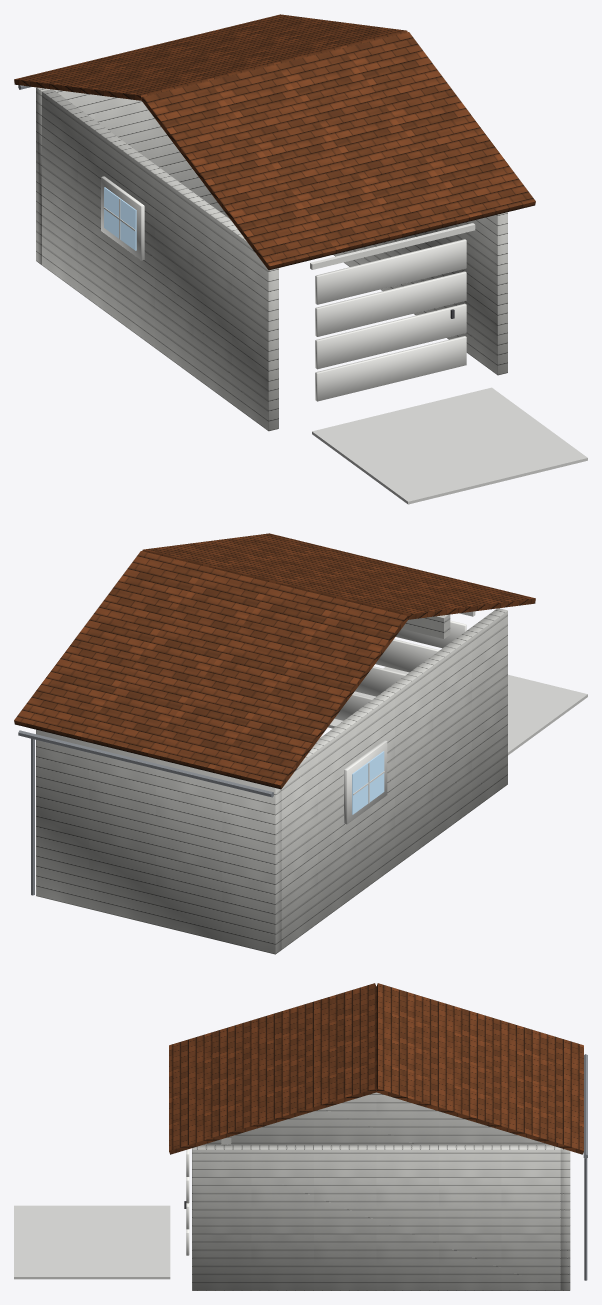
File: Garage.fbx
3 renders of one model, top to bottom at view 1: azimuth 30°, elevation 25°; view 2: azimuth 150°, elevation 25°; view 3: azimuth 270°, elevation 25°, orthographic. The views are drawn at different scales.
Parts seen in each view (by area): view 1: LOD0; view 2: LOD0; view 3: LOD0.
Part boxes in pixels (x1,y1,x2,y2): LOD0: [14, 14, 587, 504]; LOD0: [14, 533, 587, 954]; LOD0: [14, 983, 587, 1290].
Size of what is drawn, in the model's own units: 400 by 367 by 918.
